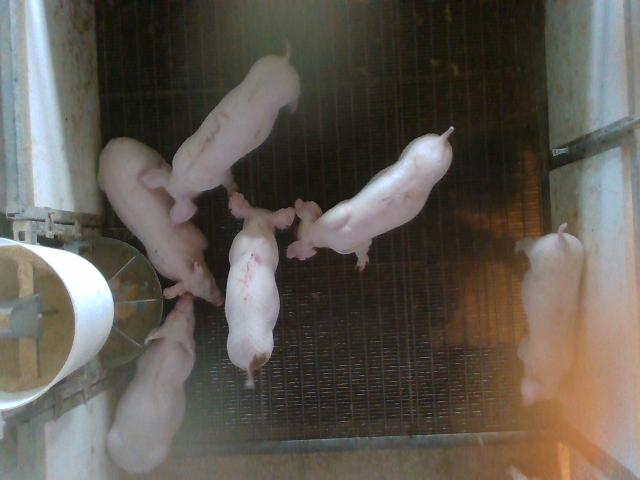pig-3: (140, 46, 300, 224)
pig-4: (516, 224, 584, 405)
pig-5: (225, 192, 295, 388)
